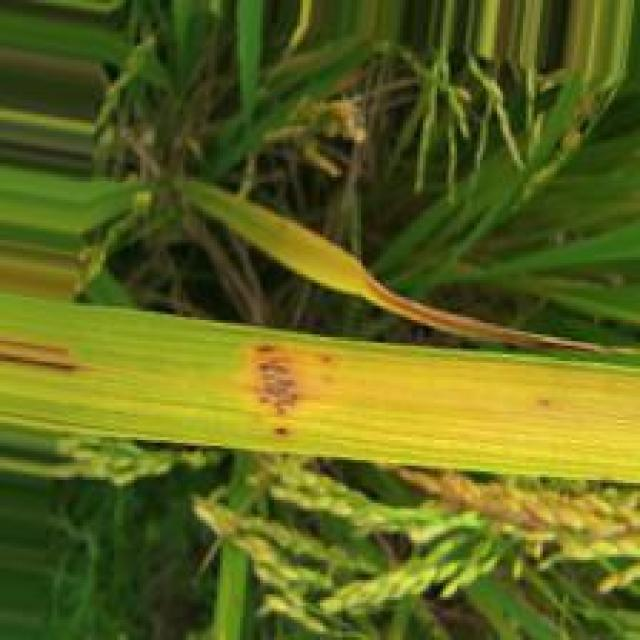Narrow_Brown_Leaf_Spot: (0, 325, 640, 486)
